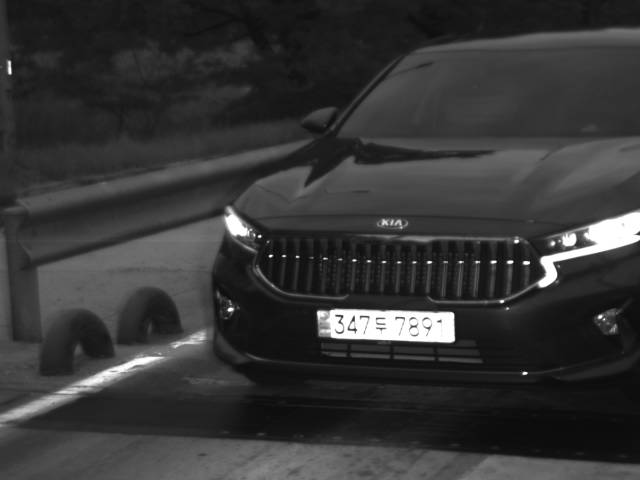car: (208, 23, 640, 391)
plate: (314, 306, 456, 343)
